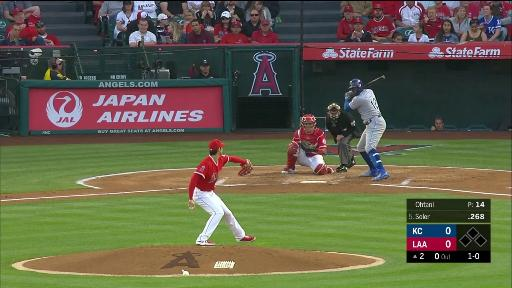pitcher: (187, 139, 255, 246)
